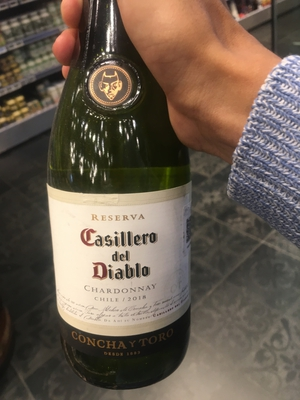casillero del diablo chardonnay: (33, 17, 206, 388)
